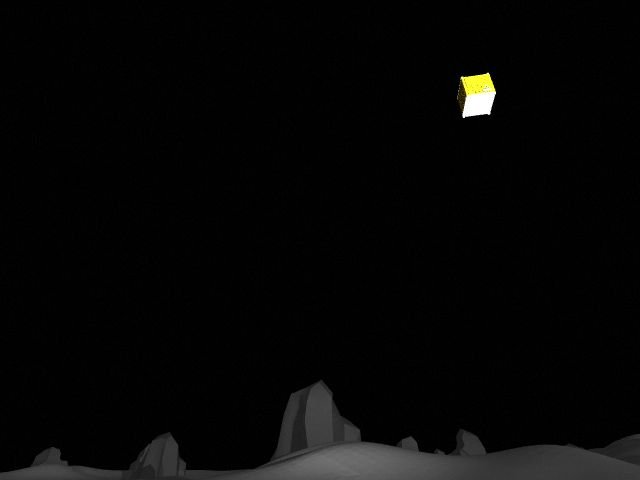cubesat: (453, 68, 499, 120)
